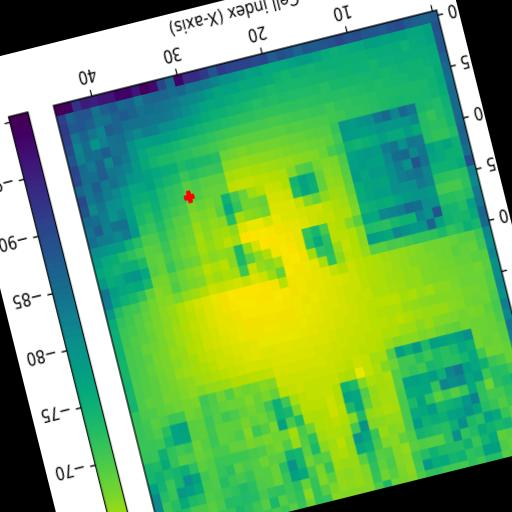Concrete: (197, 377, 308, 512)
Glass: (386, 328, 504, 479)
Metal: (142, 154, 249, 296)
Wood: (337, 101, 448, 254)
